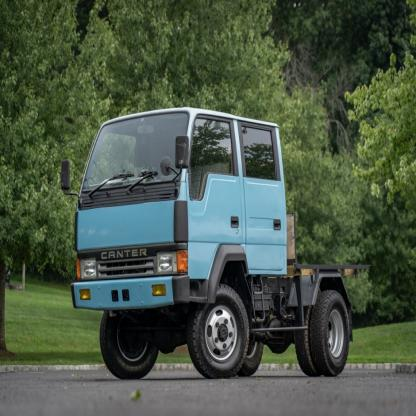truck: (59, 107, 352, 379)
